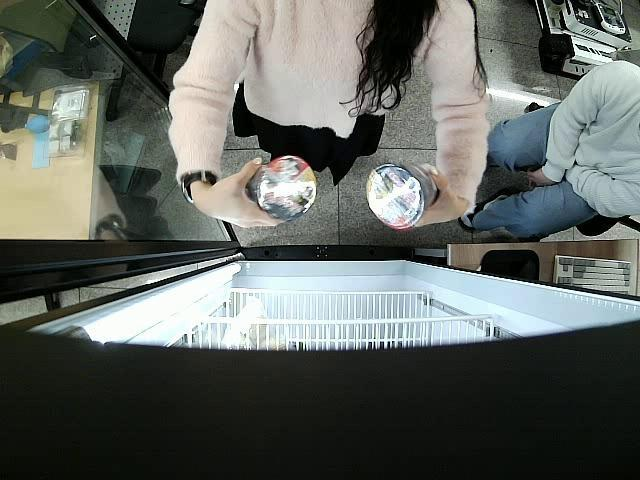08_buldak_S: (368, 162, 440, 230), (248, 155, 318, 221)
